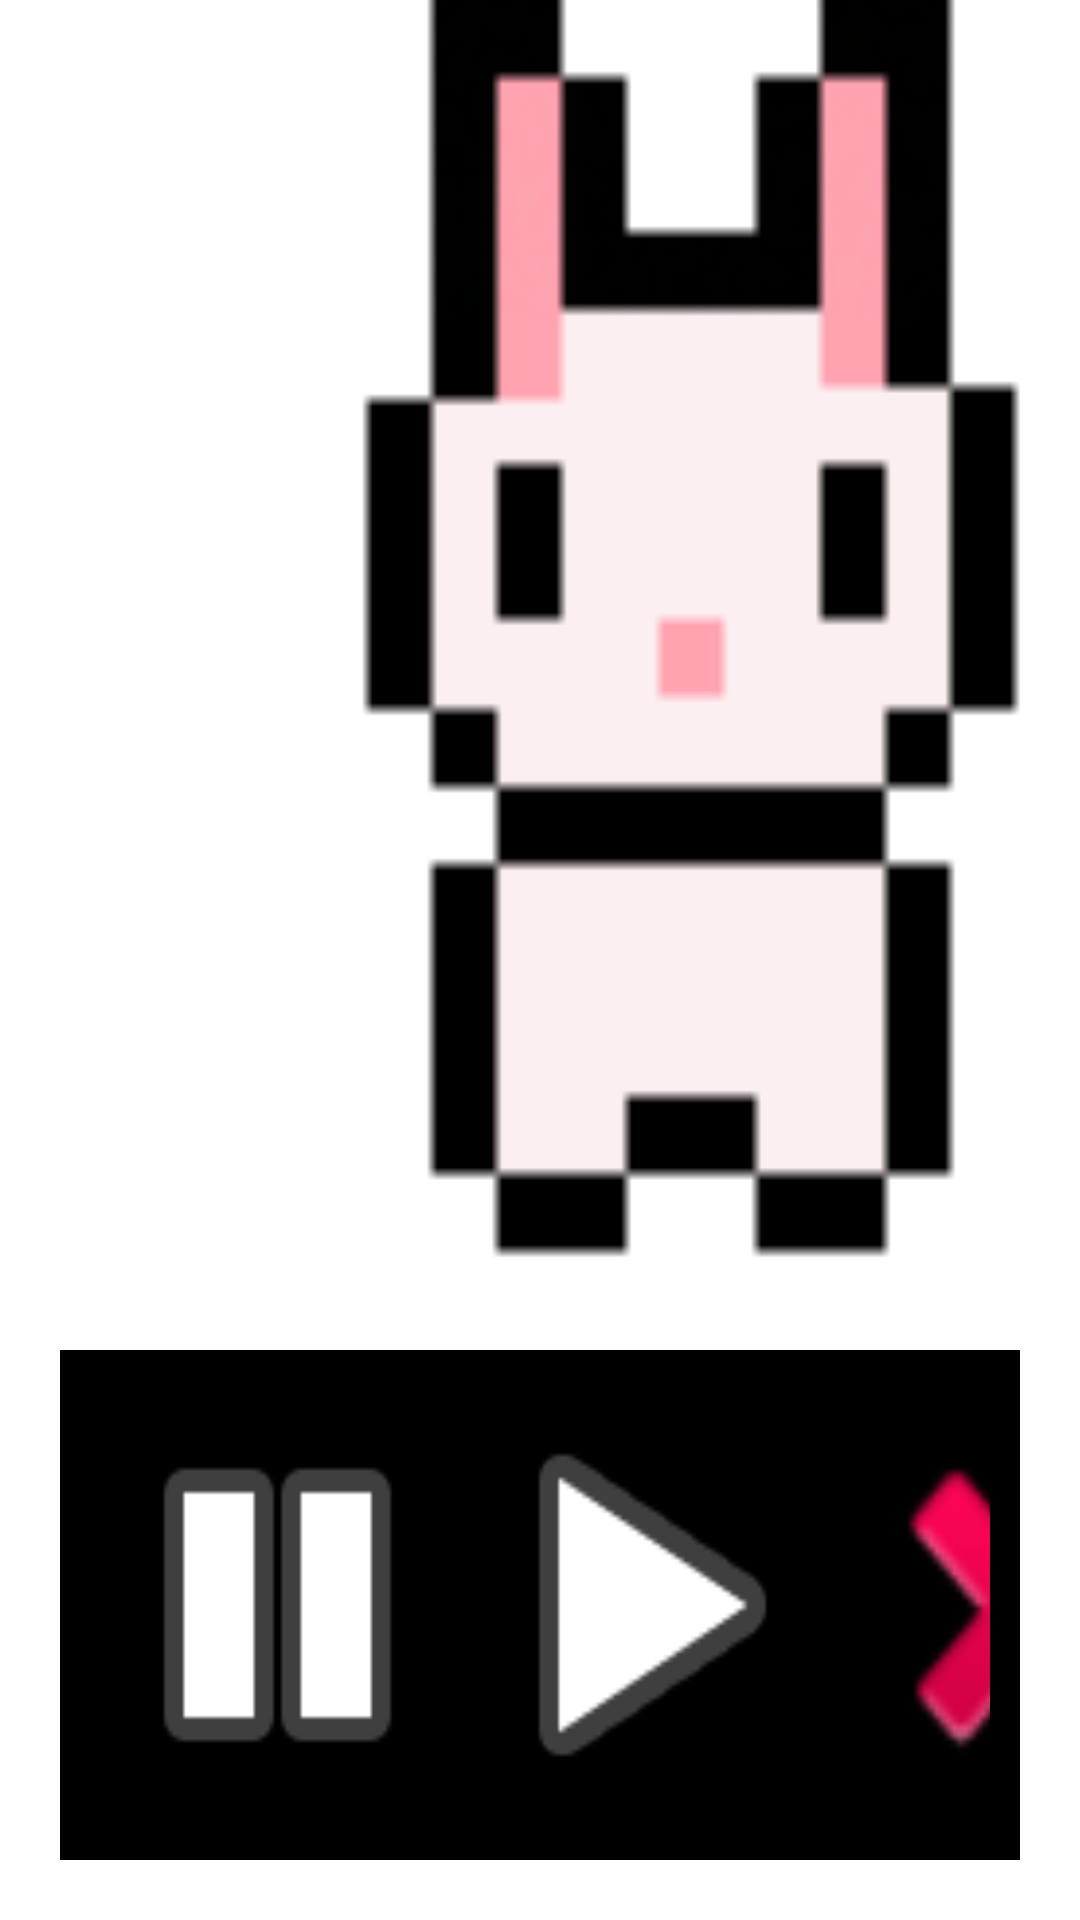

Icons on this 1080×1920 Android screen, each with its box as bbox=[x1, y1, x2, y2]:
pause: bbox=[164, 1469, 391, 1741]
play: bbox=[539, 1454, 766, 1756]
